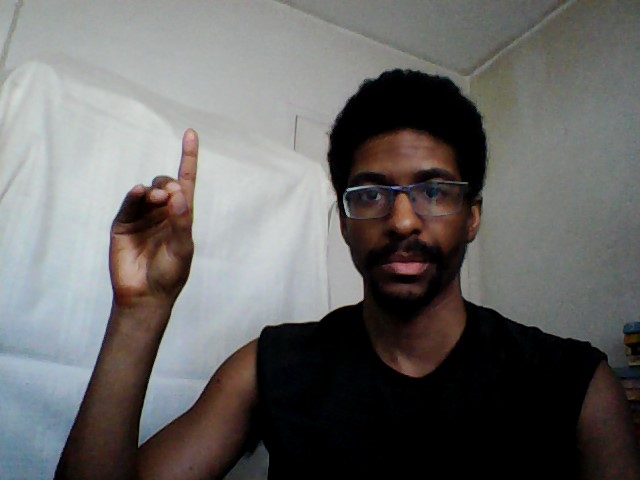d: (99, 124, 203, 300)
